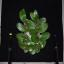leaf: (19, 9, 27, 22), (37, 24, 49, 32), (16, 23, 26, 32), (39, 32, 50, 40), (29, 46, 38, 55), (16, 32, 26, 40), (26, 44, 36, 52), (26, 21, 36, 29), (18, 40, 26, 49), (31, 34, 39, 43), (26, 38, 36, 45), (30, 12, 37, 22), (37, 41, 45, 49), (29, 29, 38, 35), (38, 18, 47, 24), (34, 9, 38, 22)
